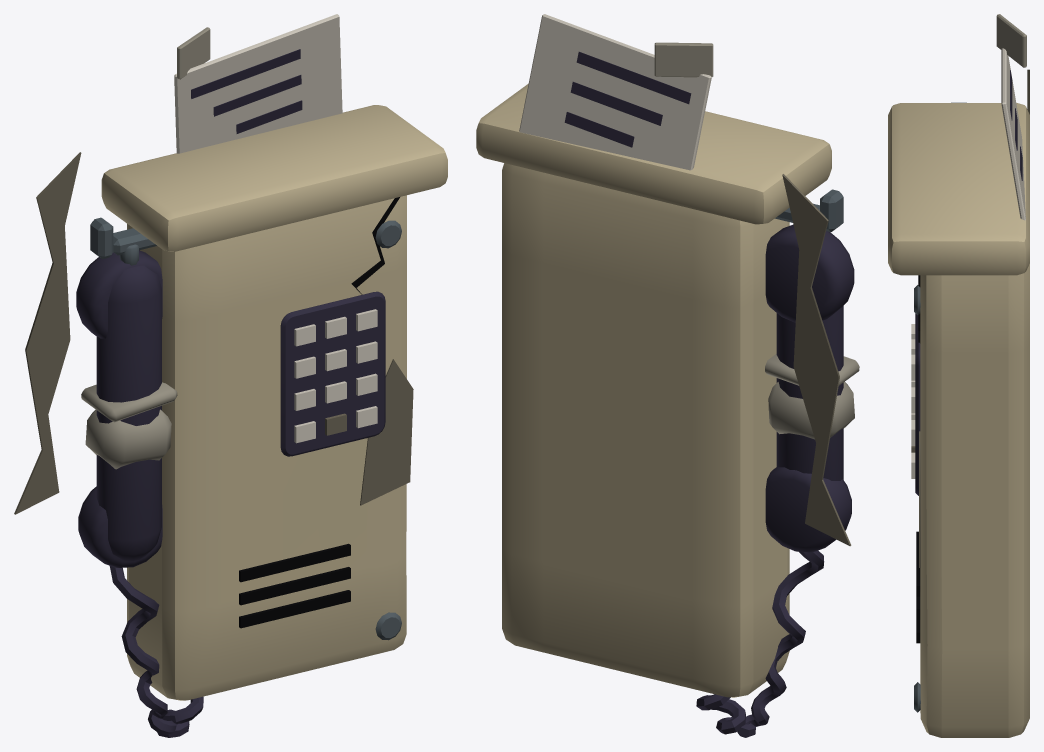
The model's file is wall_phone.glb.
3 views of the same model, side by side, from view 1: azimuth 30°, elevation 25°; view 2: azimuth 150°, elevation 25°; view 3: azimuth 270°, elevation 25° (orthographic). The views are drawn at different scales.
Visible parts, largest first — view 1: Body, Handset; view 2: Body, Handset; view 3: Body.
Boxes of the visible parts, x1=… form: Body: x1=14, y1=14, x2=447, y2=737; Handset: x1=76, y1=244, x2=177, y2=567; Body: x1=476, y1=14, x2=851, y2=737; Handset: x1=765, y1=224, x2=859, y2=552; Body: x1=888, y1=14, x2=1029, y2=737.
Size of the model in its own units: 0.335 by 0.5863 by 0.11.
